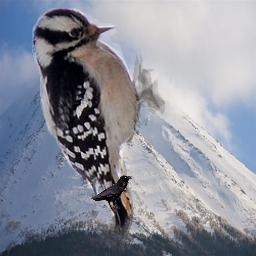Crow: (90, 174, 134, 209)
Woodpecker: (32, 8, 165, 235)
